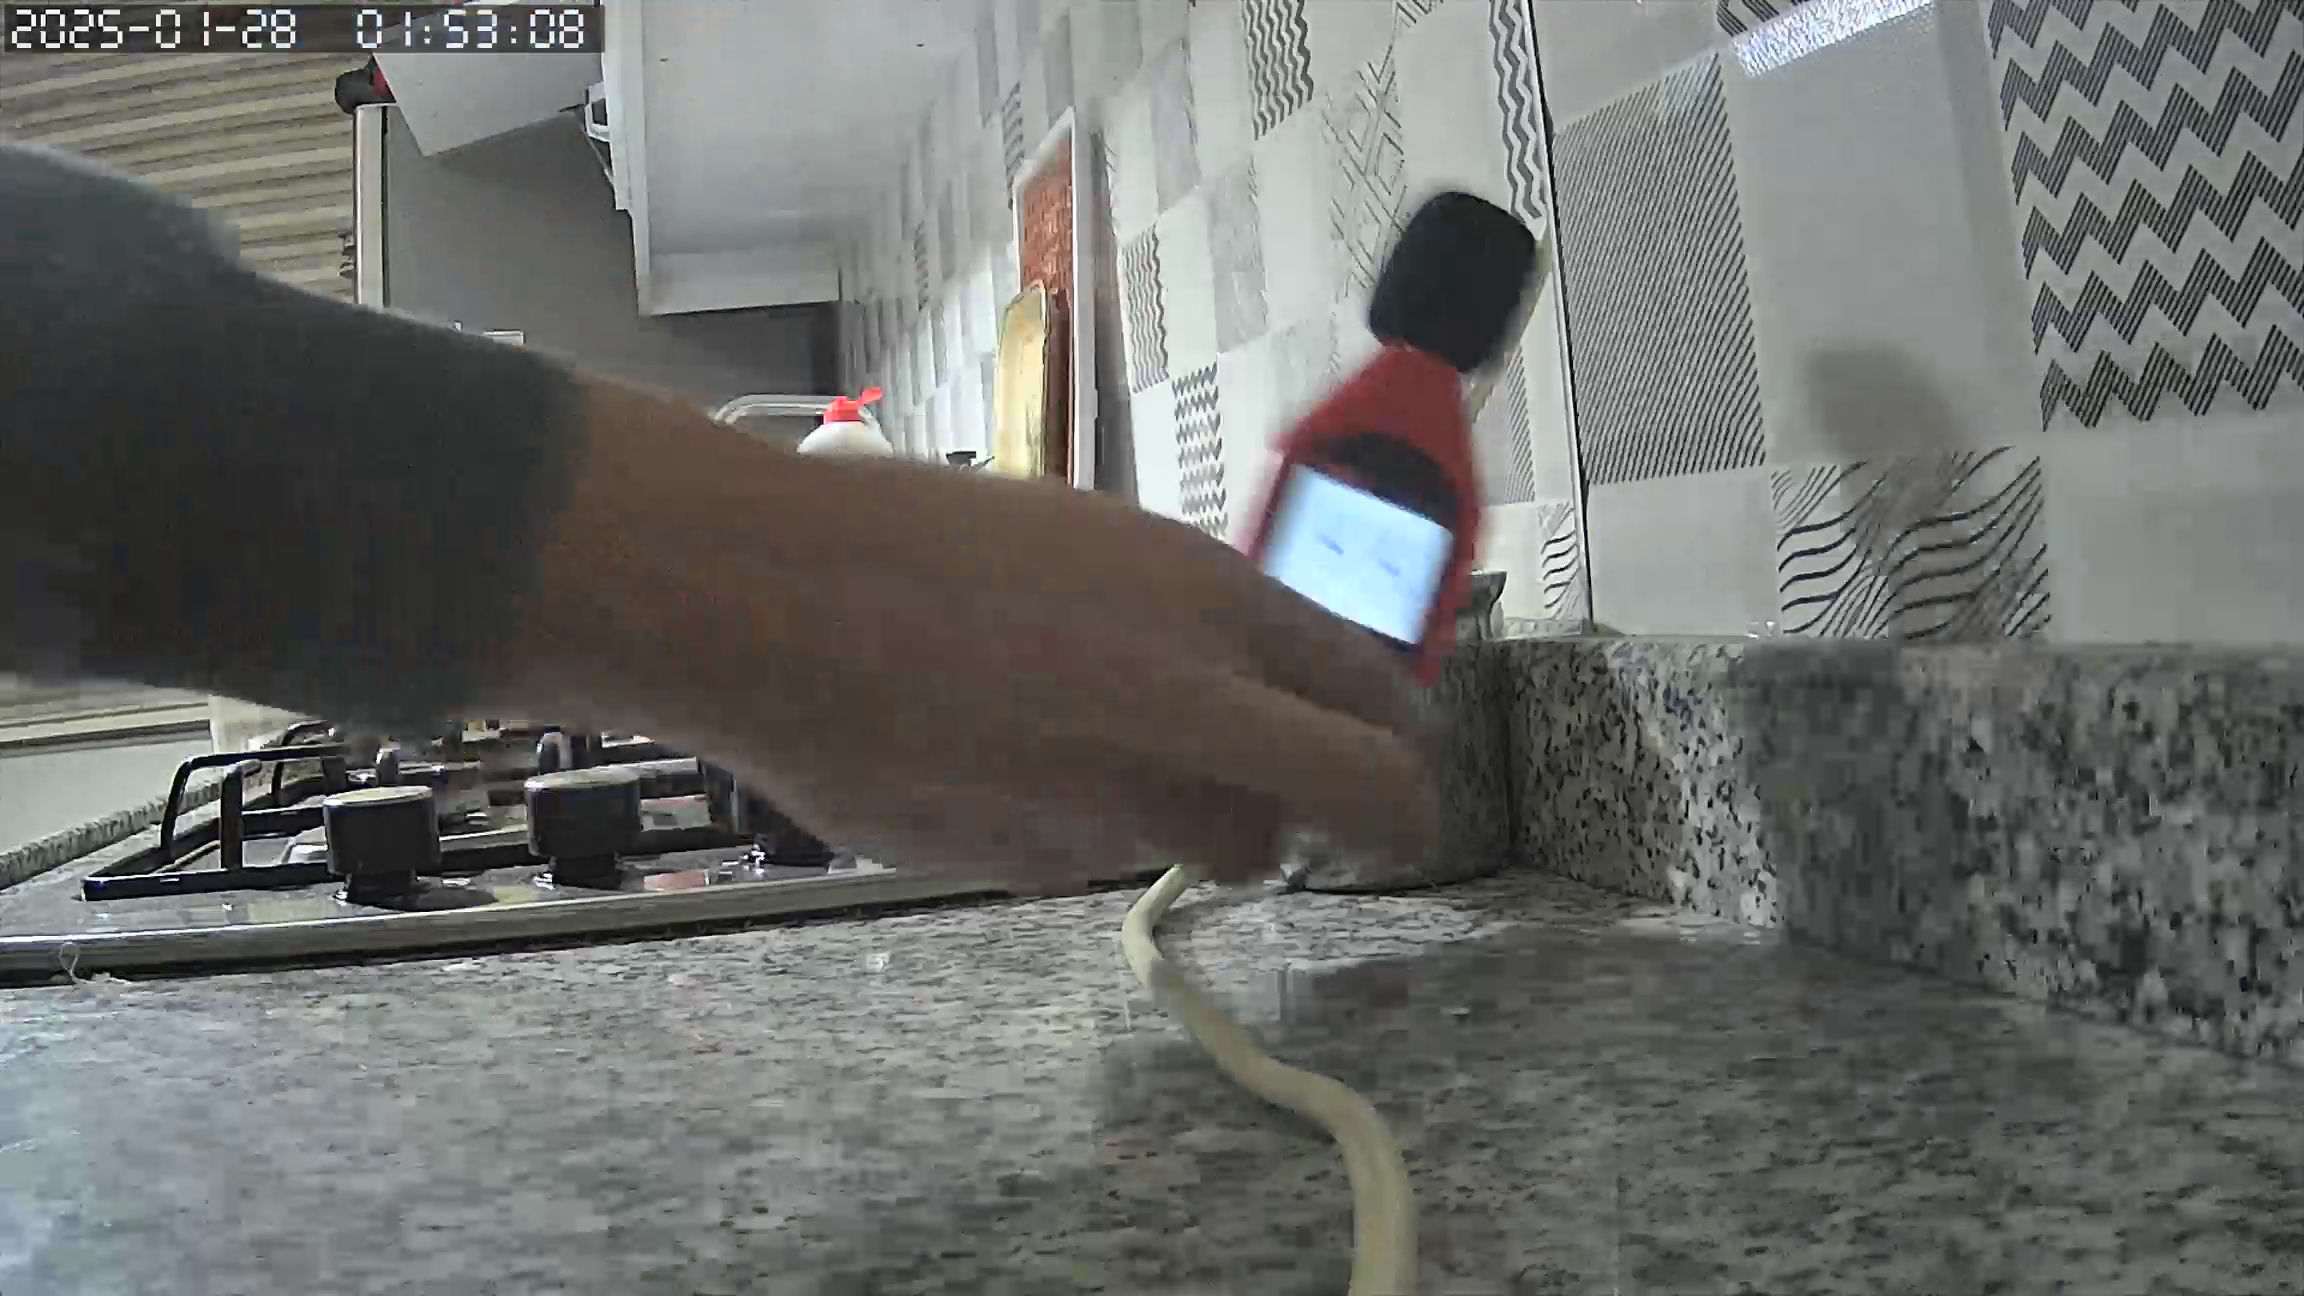screen: (1253, 465, 1454, 649)
